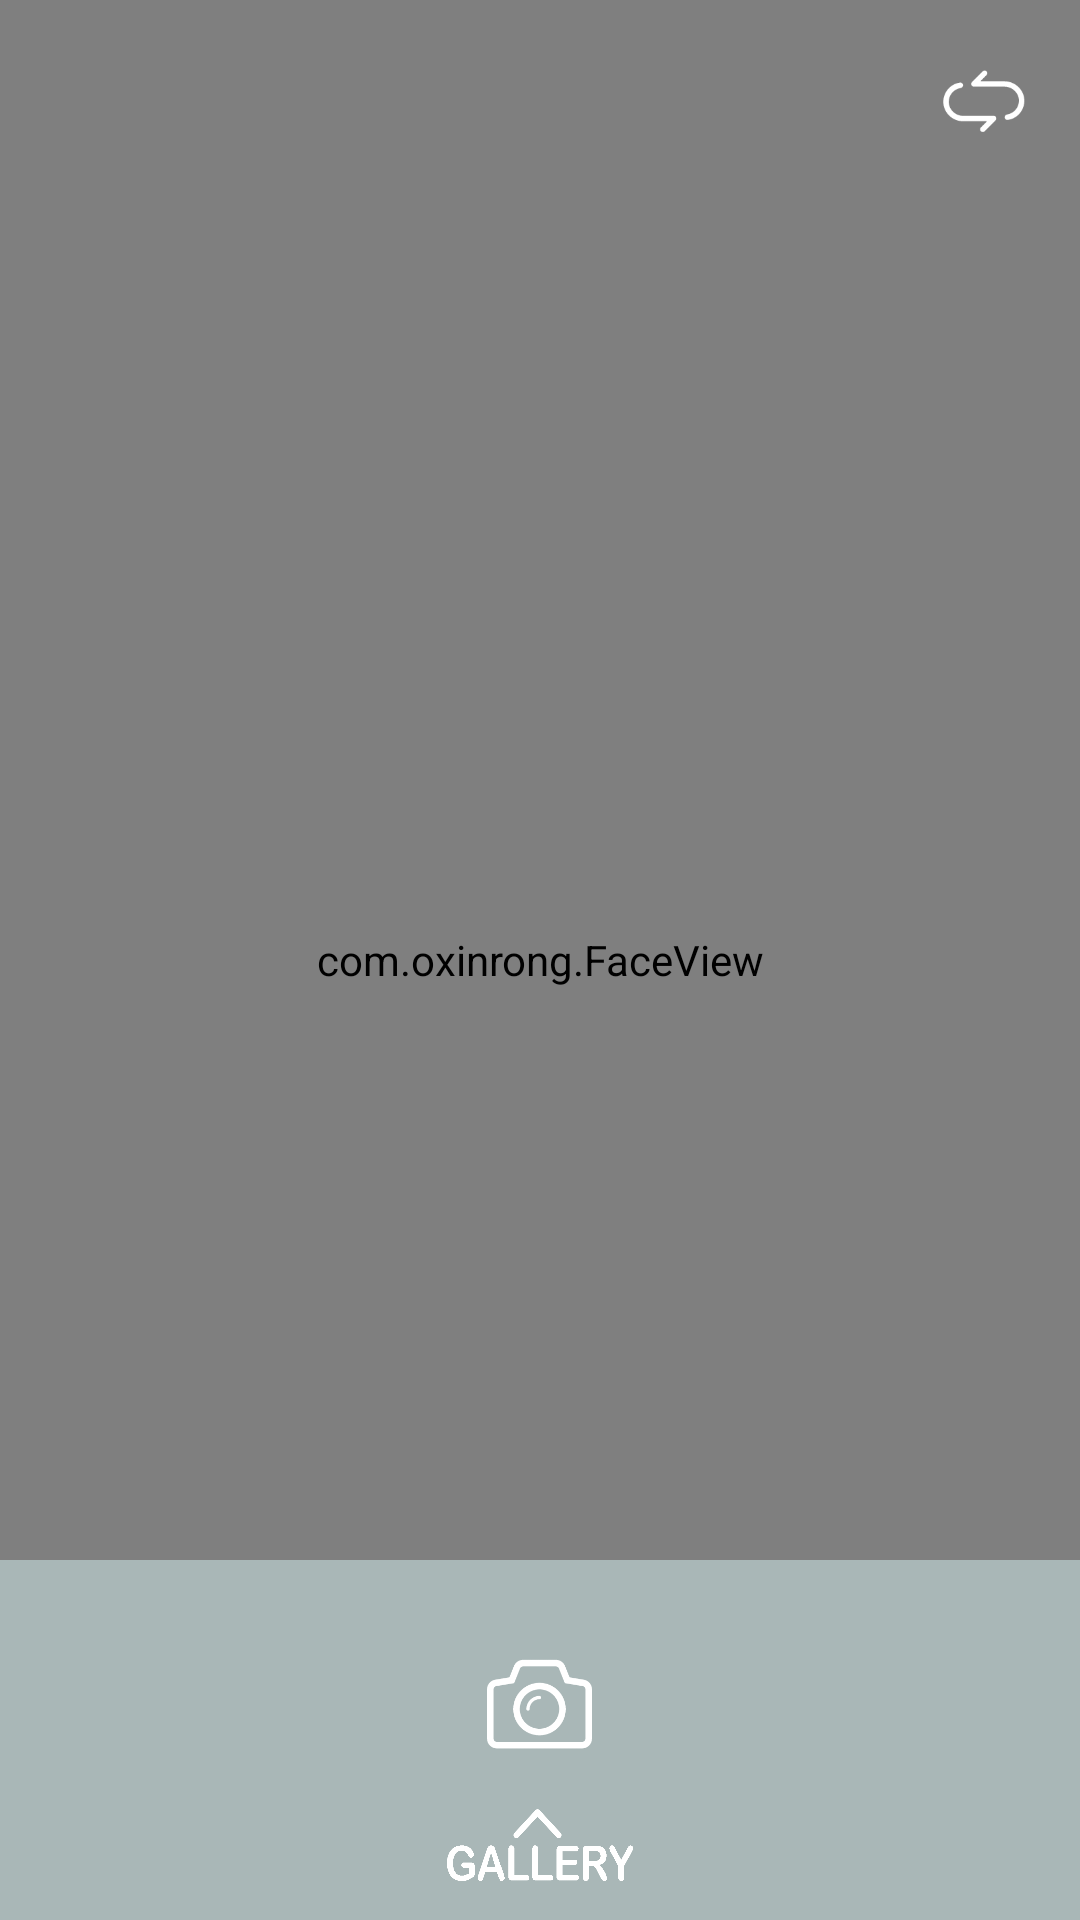

Icons on this 1080px x 1920px Android screen, each with the point to tap as [x,y]:
switch camera: [984,101]
